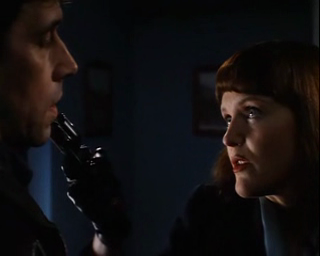cu: (1, 1, 320, 256)
face: (4, 1, 78, 148), (220, 90, 291, 199)
person: (214, 38, 320, 256), (1, 1, 89, 255)
